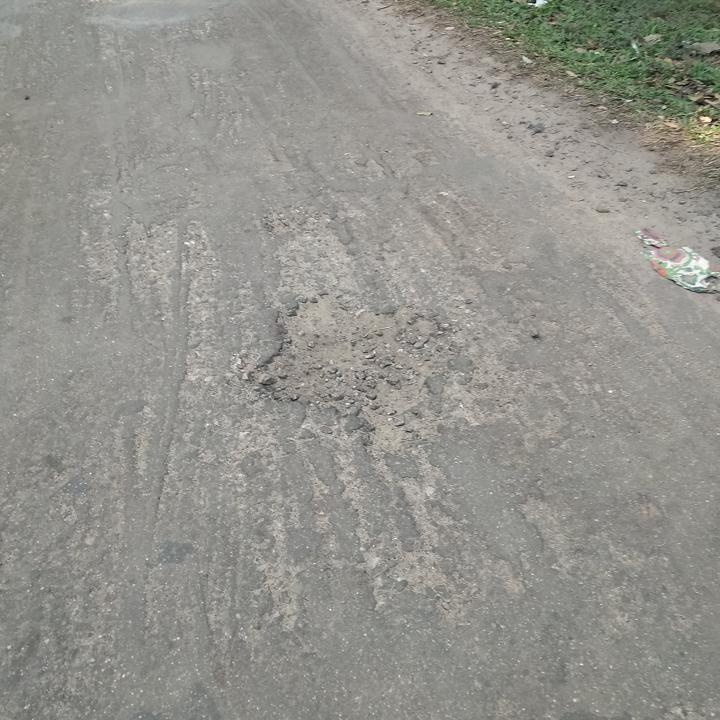pothole: (252, 289, 460, 419)
